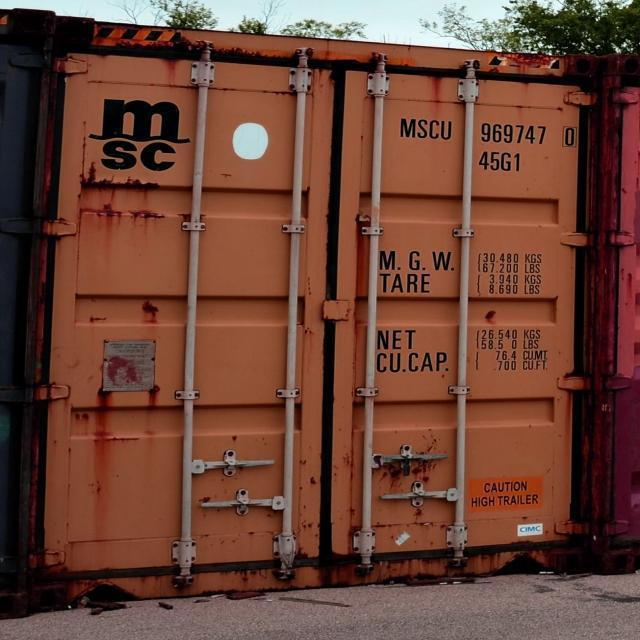ISO: (482, 149, 524, 173)
container_number: (406, 120, 574, 146)
